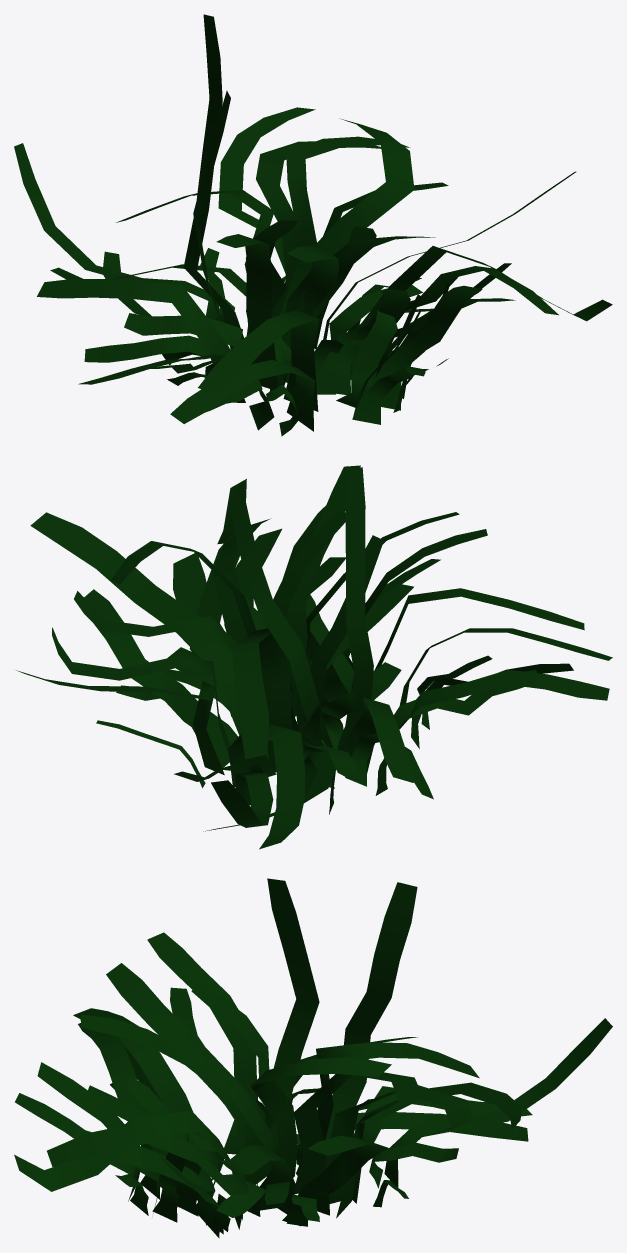
The model's file is Grass_03.fbx.
The picture shows the model from 3 angles, top to bottom: view 1: azimuth 30°, elevation 25°; view 2: azimuth 150°, elevation 25°; view 3: azimuth 270°, elevation 25°; orthographic projection. The views are drawn at different scales.
Visible parts, largest first — view 1: grass_03_LOD0; view 2: grass_03_LOD0; view 3: grass_03_LOD0.
Part boxes in pixels (left/top/right/bottom): grass_03_LOD0: left=14, top=14, right=612, bottom=436; grass_03_LOD0: left=16, top=465, right=612, bottom=849; grass_03_LOD0: left=14, top=878, right=612, bottom=1238.
Size of what is drawn, in the model's own units: 104 by 60.55 by 105.
